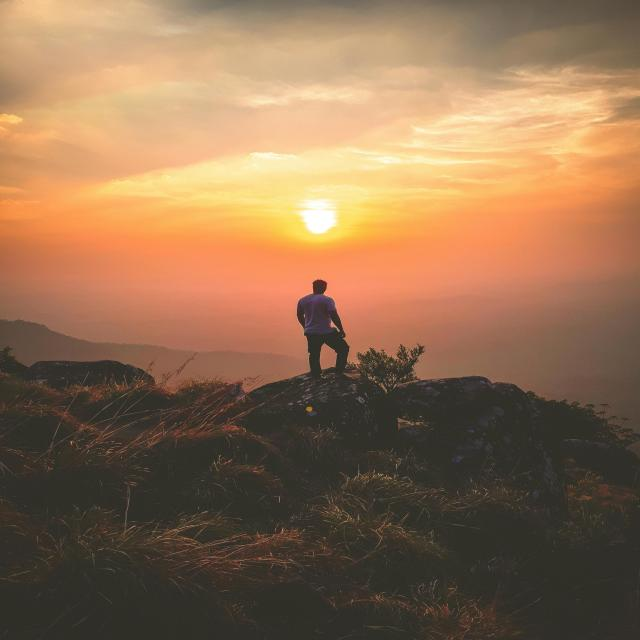stand: (288, 272, 359, 406)
